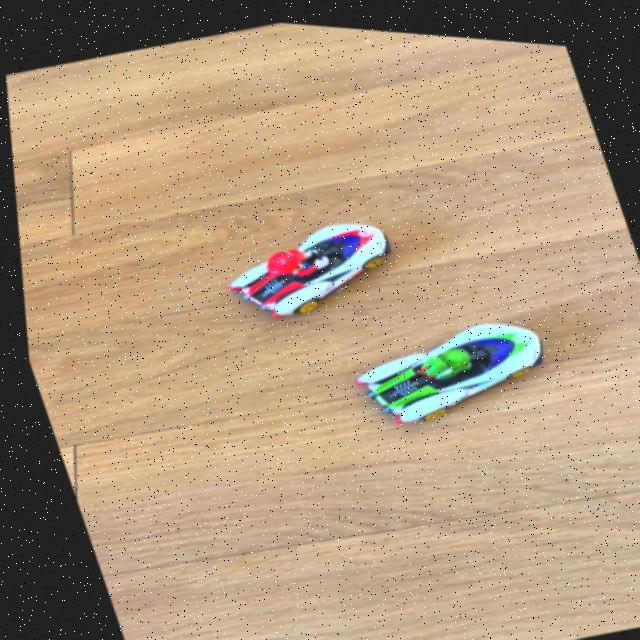mario: (194, 190, 420, 339)
yoshi: (327, 282, 575, 442)
